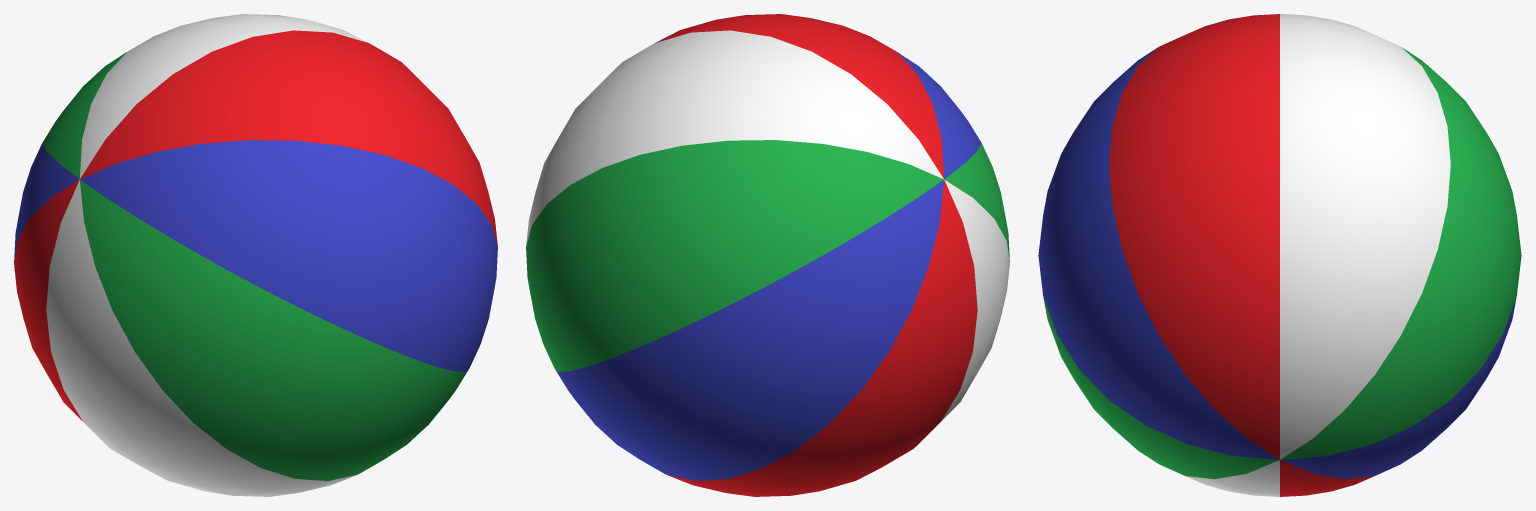
Rendered from beachball.glb.
3 views of the same model, side by side, from view 1: azimuth 30°, elevation 25°; view 2: azimuth 150°, elevation 25°; view 3: azimuth 270°, elevation 25° (orthographic).
Visible parts, largest first — view 1: Beachball; view 2: Beachball; view 3: Beachball.
Boxes of the visible parts, <box> form: Beachball: <box>14,14,497,496</box>; Beachball: <box>526,14,1009,496</box>; Beachball: <box>1038,14,1521,496</box>.
Size of the model in its own units: 0.5166 by 0.5166 by 0.5167.
Materials: 1 (1 with a texture image).
